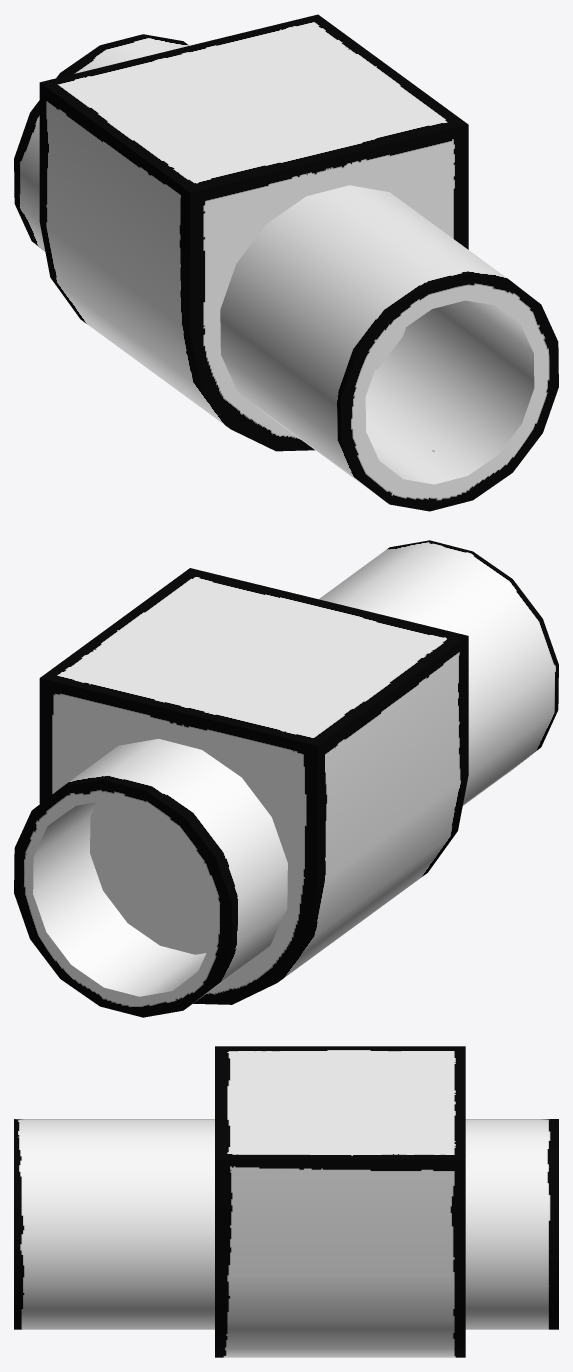
Rendered from Cannon.fbx.
3 views of the same model, one above another, from view 1: azimuth 30°, elevation 25°; view 2: azimuth 150°, elevation 25°; view 3: azimuth 270°, elevation 25° (orthographic). The views are drawn at different scales.
Visible parts, largest first — view 1: Cannon; view 2: Cannon; view 3: Cannon.
Boxes of the visible parts, x1,y1,x2,y2 form: Cannon: (14,14,558,511); Cannon: (14,540,558,1017); Cannon: (14,1046,558,1357).
Bounding box in the file's own units: 33.34 × 33.34 × 67.81.
Materials: 1 (1 with a texture image).
